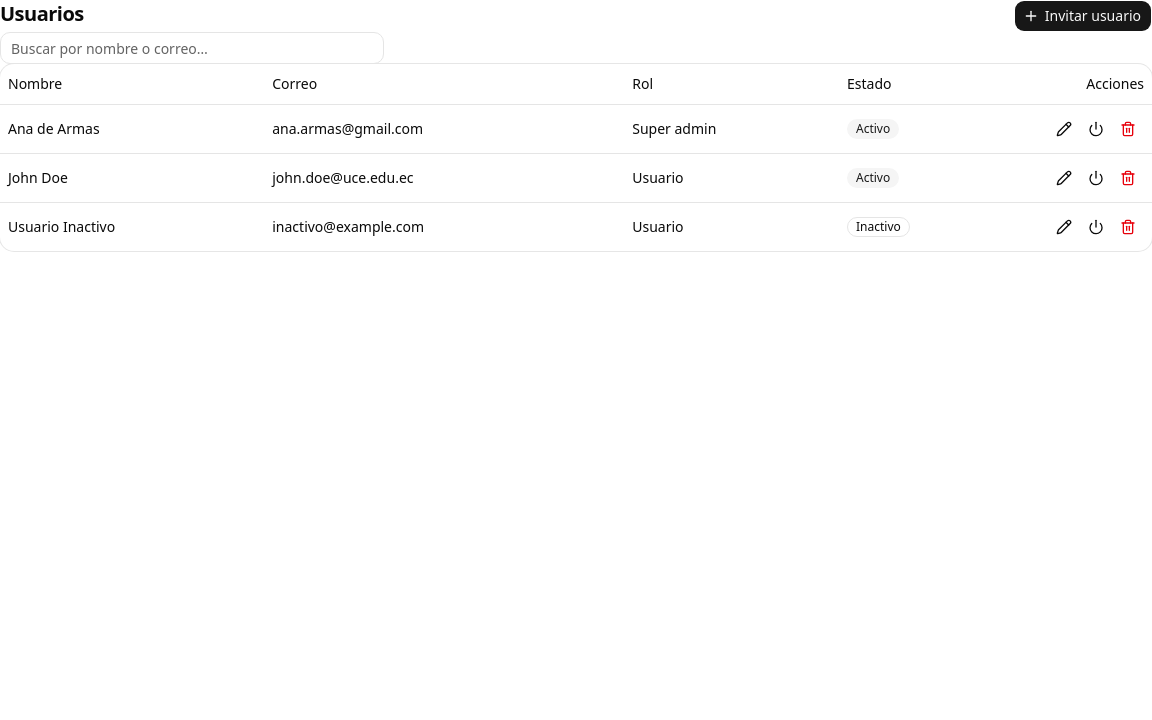
AdminUsuariosPageActiva › muestra el 409 del backend sin filtrarlo, sin dejarlo pasar por éxito
Expected: the text "Ana de Armas" is shown, [0, 104, 264, 153]
Click the button "Invitar usuario": {"x": 1083, "y": 16} [1014, 0, 1151, 32]
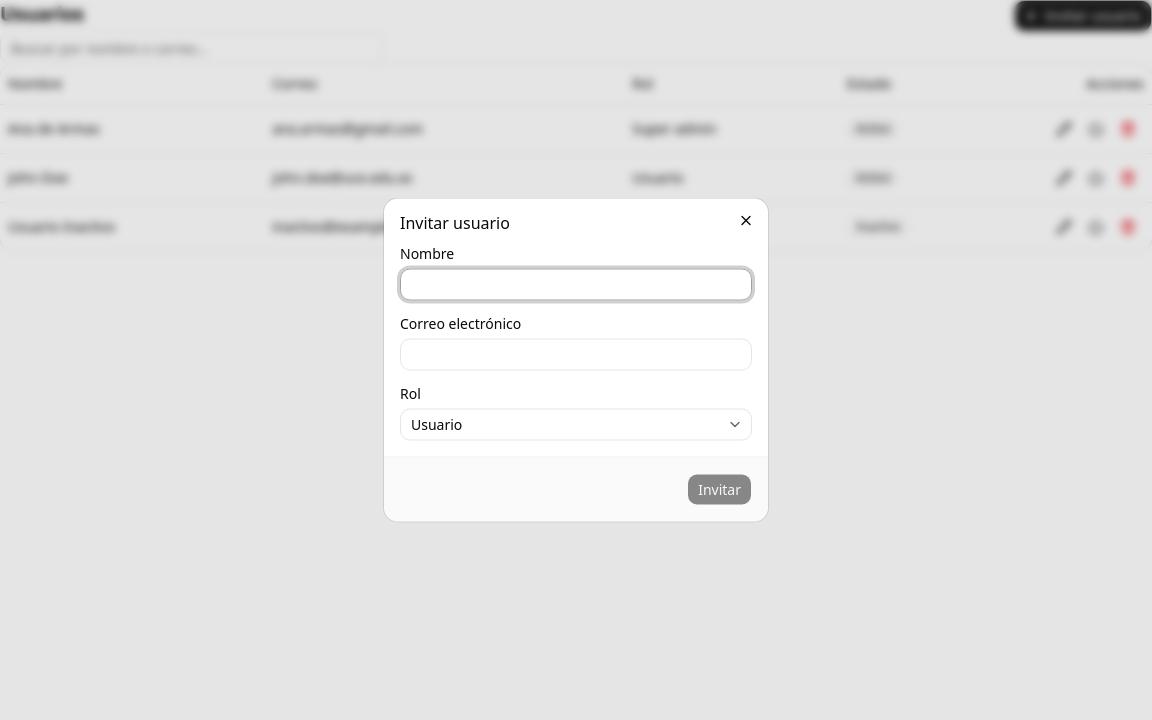
In the field labelled "Nombre": {"x": 576, "y": 284} [400, 268, 752, 300], type "Dup"
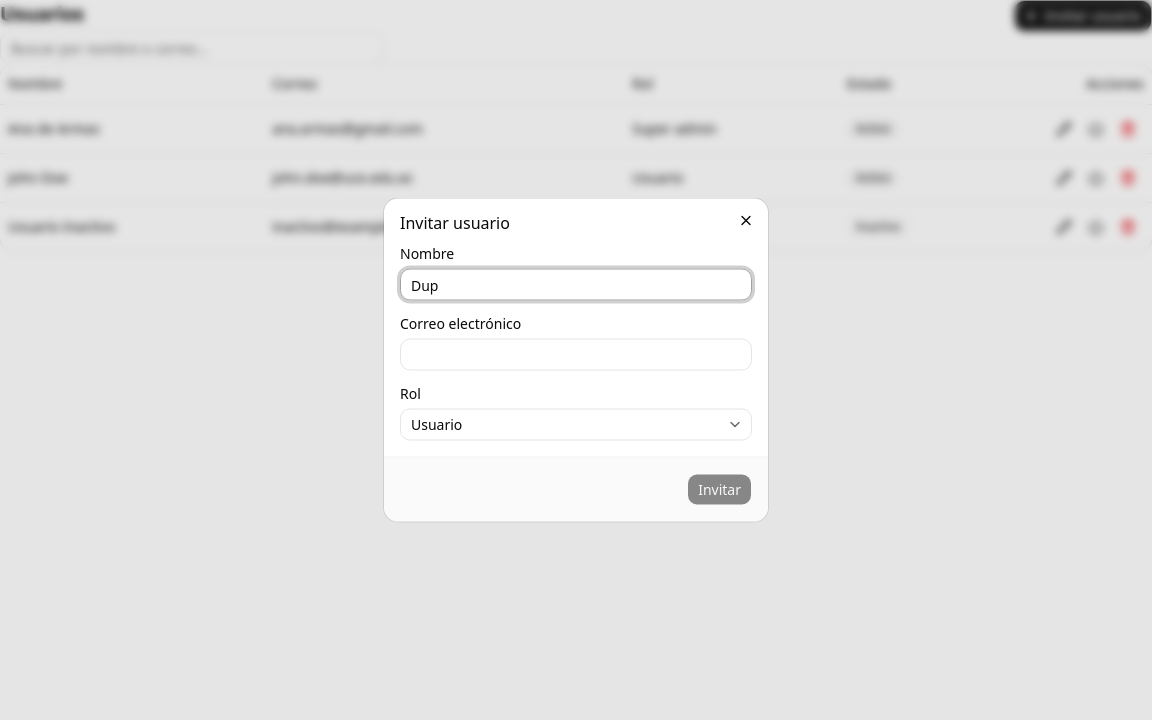
In the field labelled "Correo electrónico": {"x": 576, "y": 354} [400, 338, 752, 370], type "john.doe@uce.edu.ec"
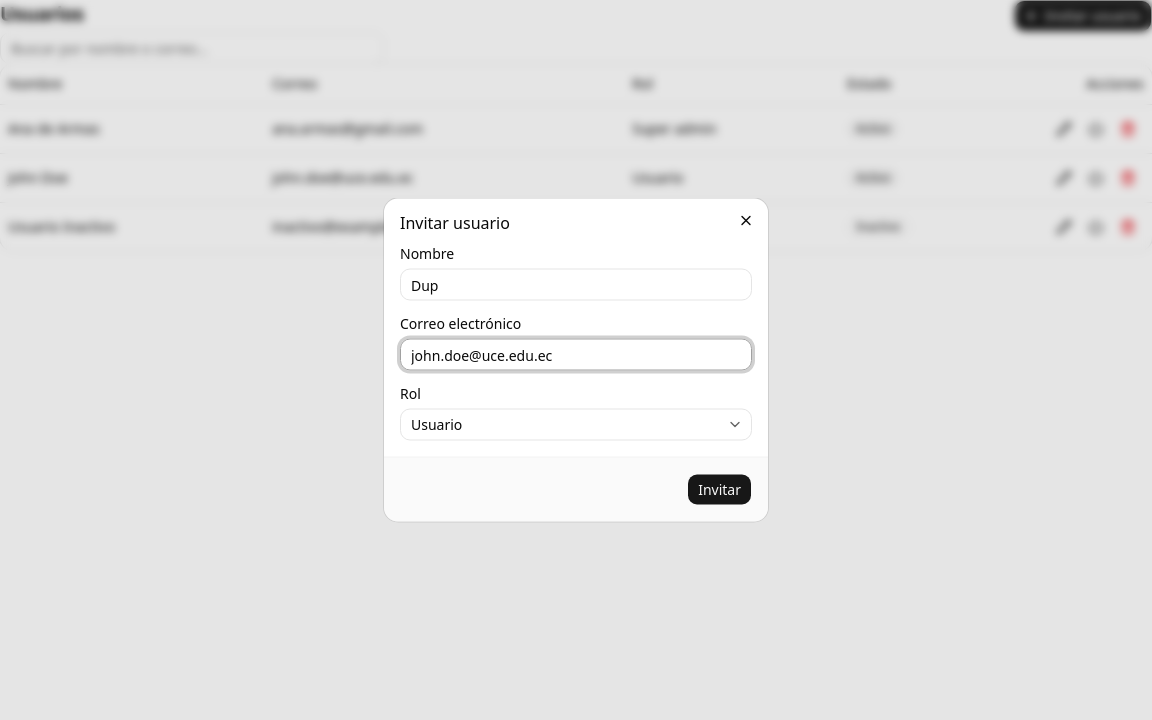
Click the button "Invitar": {"x": 720, "y": 490} [687, 474, 752, 506]
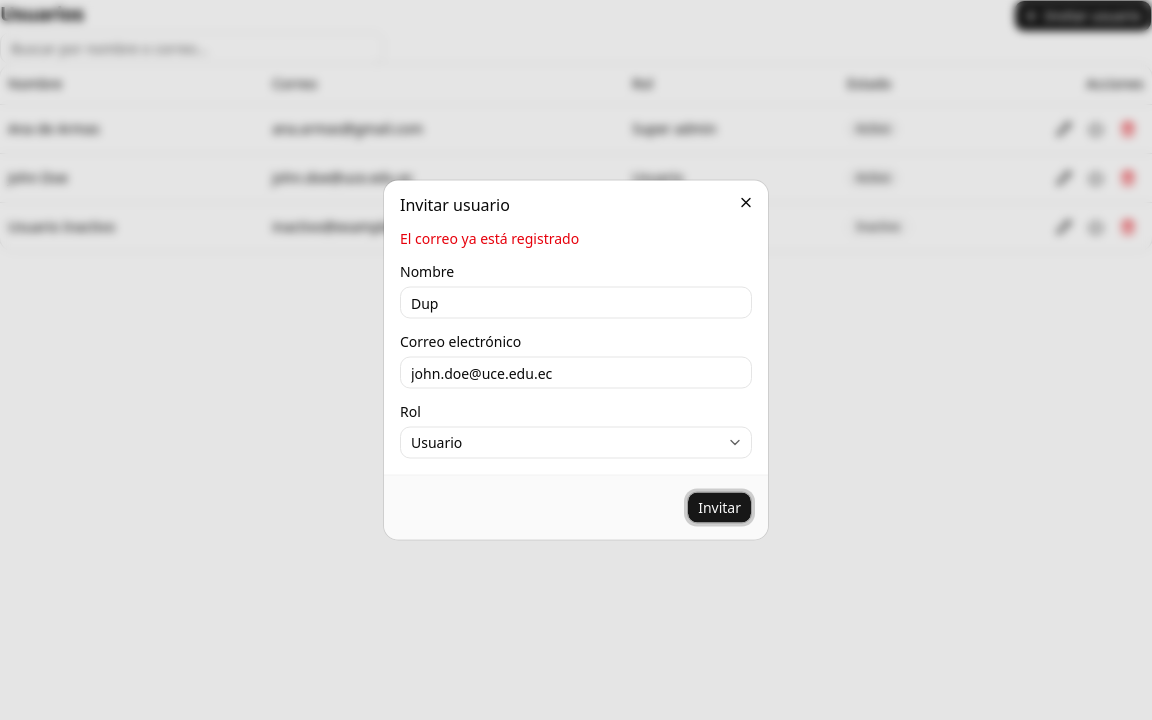
Now the button "Invitar" is shown, box [687, 492, 752, 524]
Now the text "El correo ya está registrado" is shown, box [400, 228, 579, 248]
